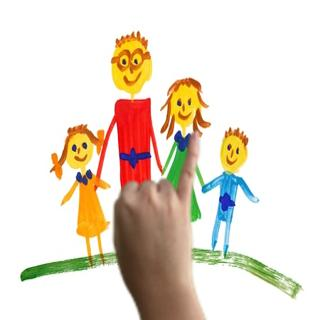FINE: (107, 127, 205, 294)
